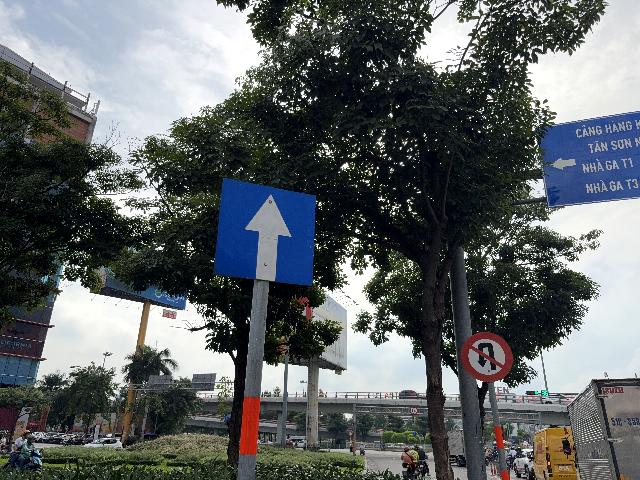cam-quay-dau-xe: (461, 331, 512, 382)
duong-mot-chieu: (213, 177, 315, 288)
